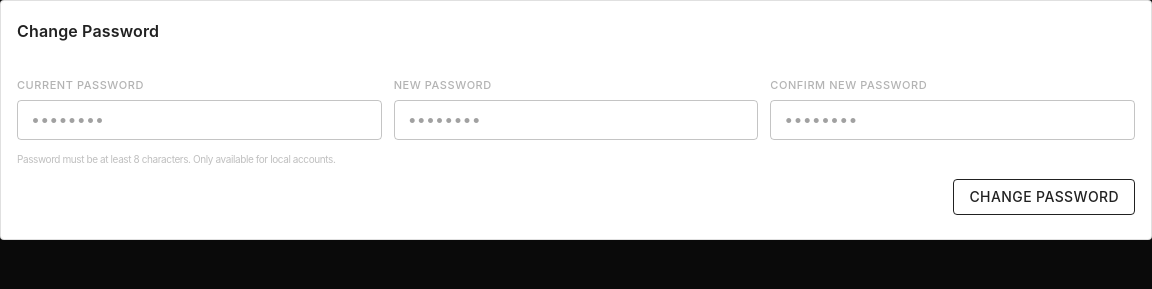
ChangePasswordSection — validation › shows error when new password is too short
Type "current" into the password field with placeholder "••••••••" below "Current Password" at (199, 120), box 17,100 -> 382,140
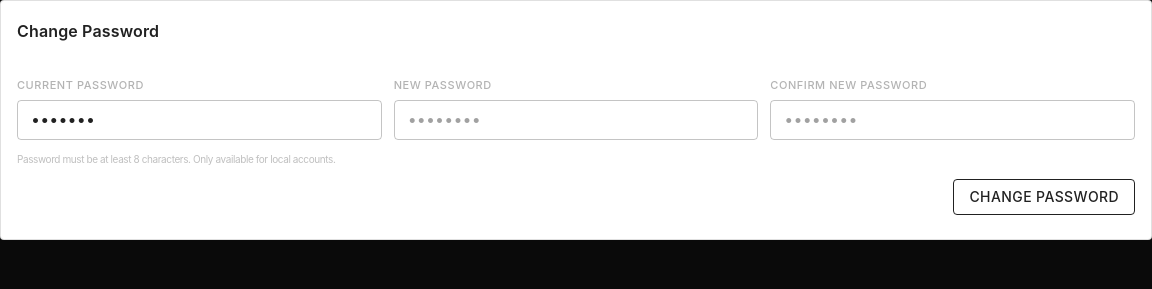
Type "Ab1!" into the 1st password field with placeholder "••••••••" at (576, 120), box 394,100 -> 758,140
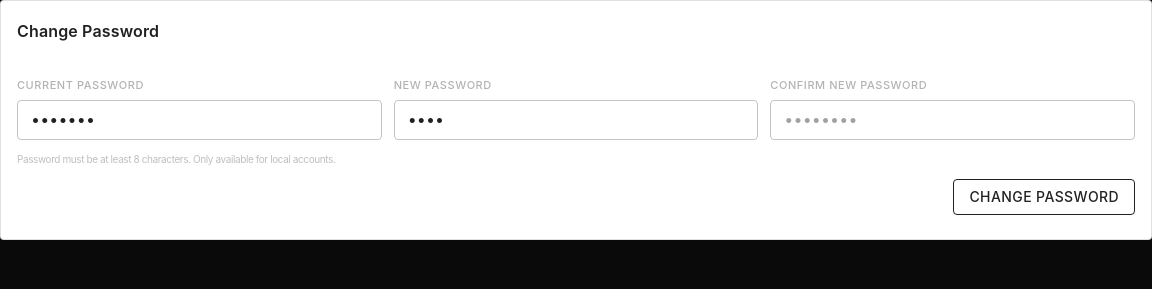
Type "Ab1!" into the password field with placeholder "••••••••" at (953, 120), box 770,100 -> 1135,140
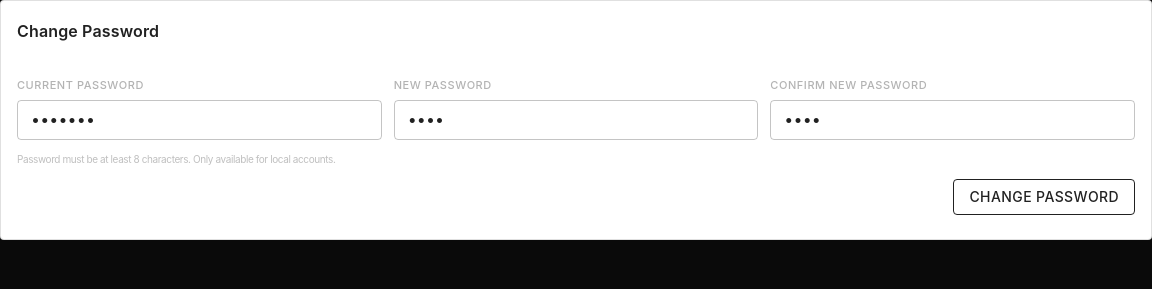
Click the button "Change Password" at (1044, 197), box 954,178 -> 1135,215
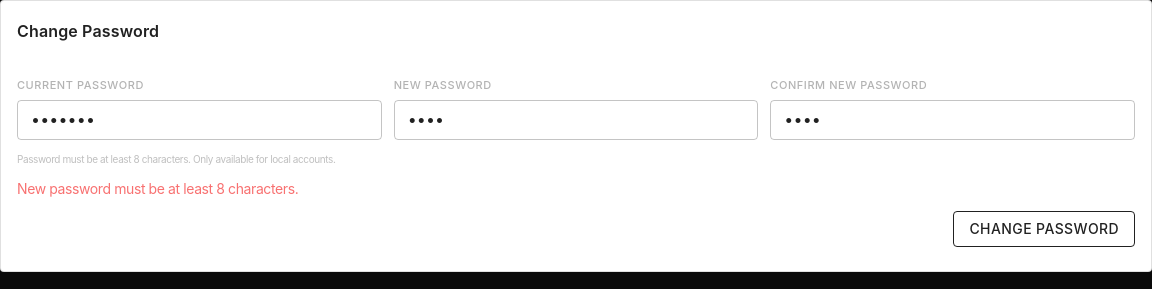
Check: the text "New password must be at least 8 characters." is shown, box 17,180 -> 298,196
